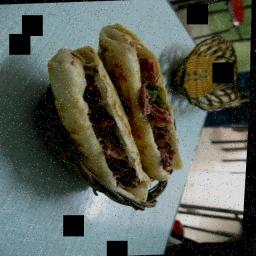hotdog: (93, 21, 195, 184)
